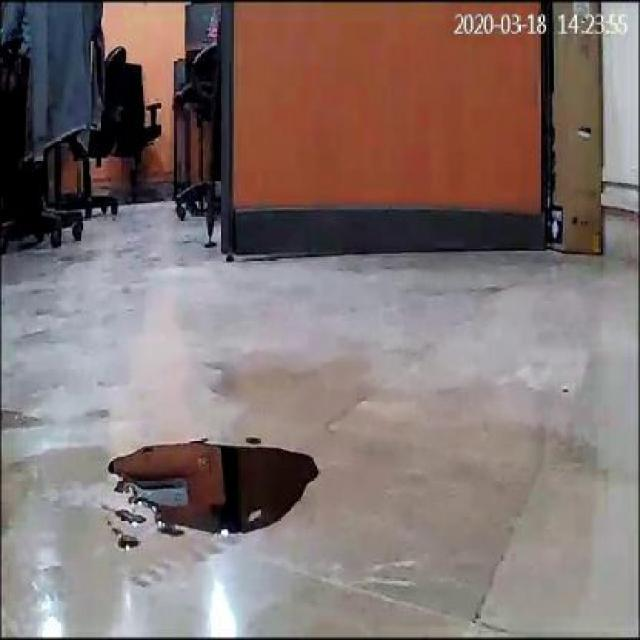spill: (109, 435, 317, 540)
